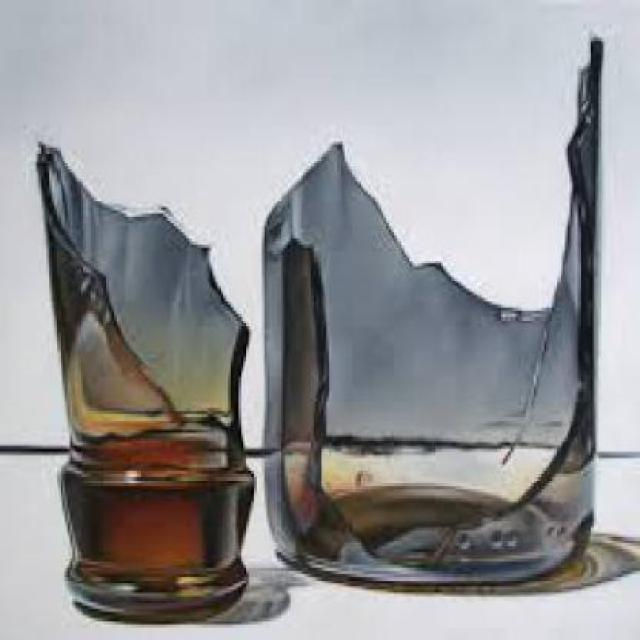kaca: (258, 29, 594, 591), (31, 138, 249, 622)
